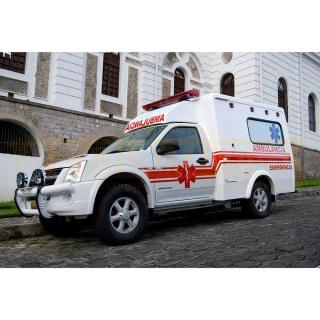Ambulance: (11, 48, 301, 257)
